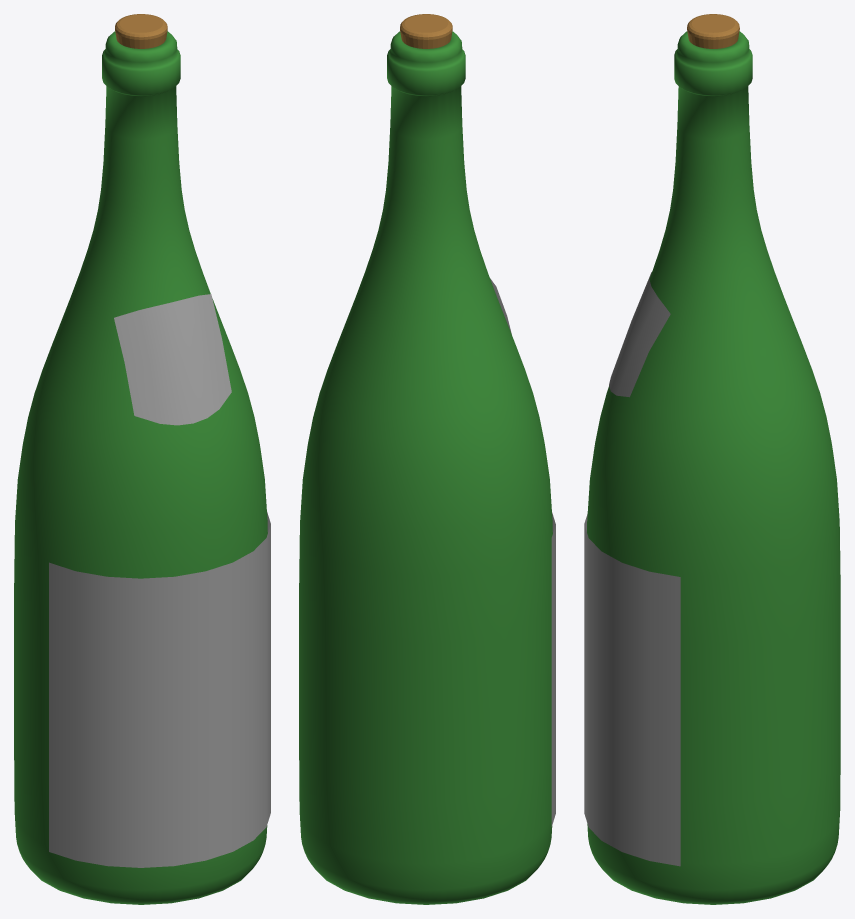
The model's file is beer bottle 4.fbx.
3 views of the same model, side by side, from view 1: azimuth 30°, elevation 25°; view 2: azimuth 150°, elevation 25°; view 3: azimuth 270°, elevation 25° (orthographic).
Parts seen in each view (by area): view 1: bottle, labels, cap; view 2: bottle, labels, cap; view 3: bottle, labels, cap.
Boxes of the visible parts, x1,y1,x2,y2 form: bottle: [14, 31, 267, 904]; labels: [49, 294, 270, 867]; cap: [115, 14, 167, 48]; bottle: [299, 31, 552, 904]; labels: [490, 278, 555, 826]; cap: [400, 14, 452, 48]; bottle: [587, 31, 840, 904]; labels: [584, 272, 680, 866]; cap: [687, 14, 739, 48].
Bounding box in the file's own units: 846 × 3054 × 853.
